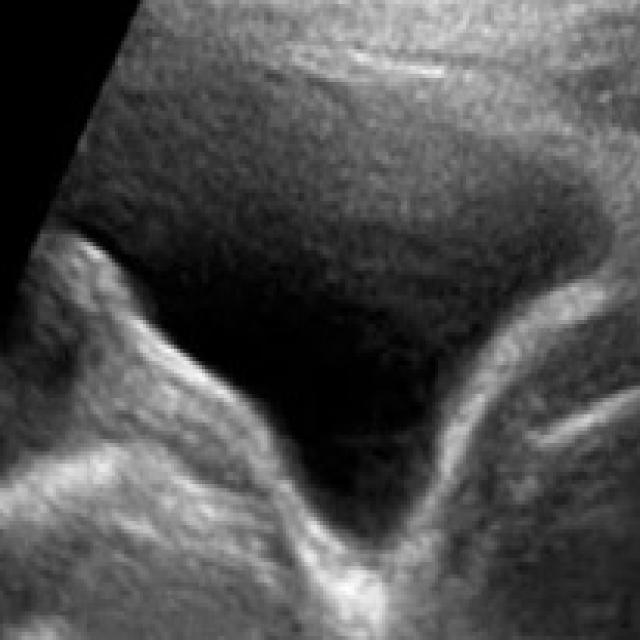bladder: (44, 18, 620, 600)
